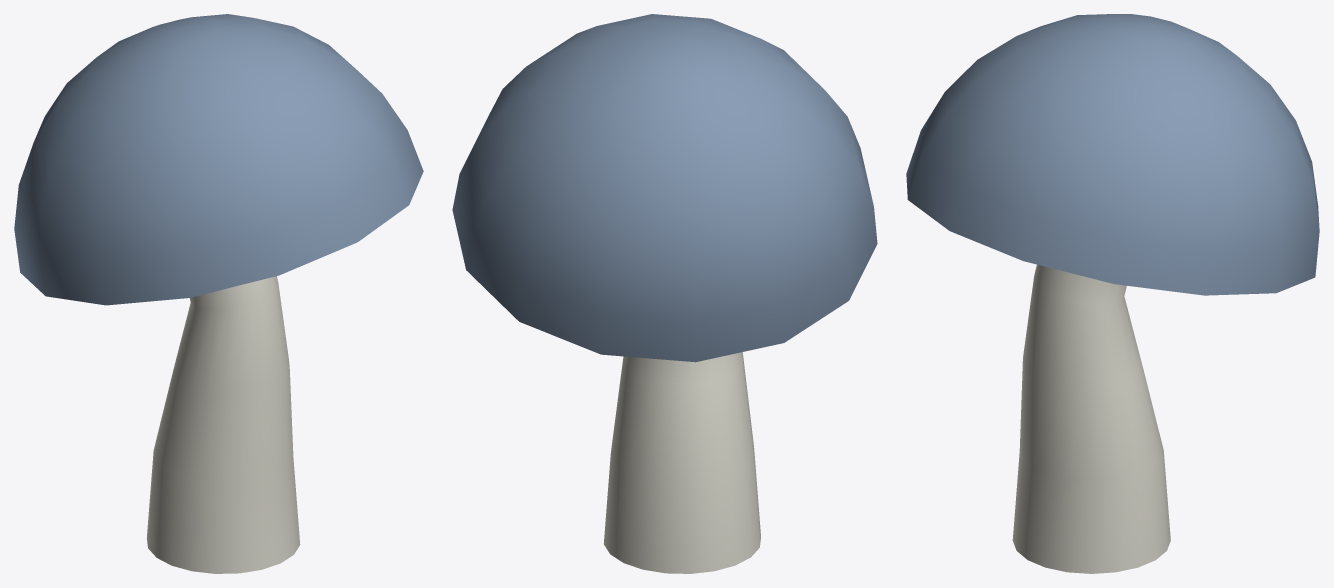
Rendered from MushroomBlauwKlein.fbx.
3 renders of one model, left to right at view 1: azimuth 30°, elevation 25°; view 2: azimuth 150°, elevation 25°; view 3: azimuth 270°, elevation 25°, orthographic. The views are drawn at different scales.
Parts seen in each view (by area): view 1: polySurface3404; view 2: polySurface3404; view 3: polySurface3404.
Part boxes in pixels (<box>): polySurface3404: <box>14,14,423,573</box>; polySurface3404: <box>452,14,877,573</box>; polySurface3404: <box>906,14,1319,573</box>.
Bounding box in the file's own units: 0.0434 × 0.0579 × 0.0424.
